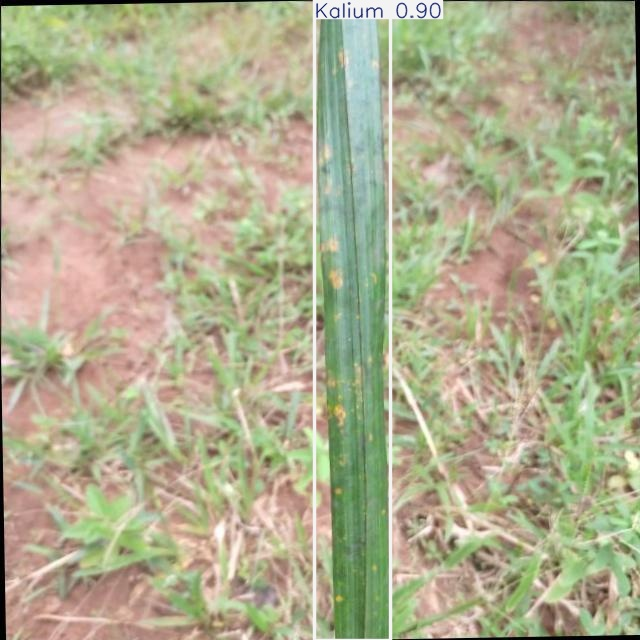Kalium: (315, 1, 390, 640)
